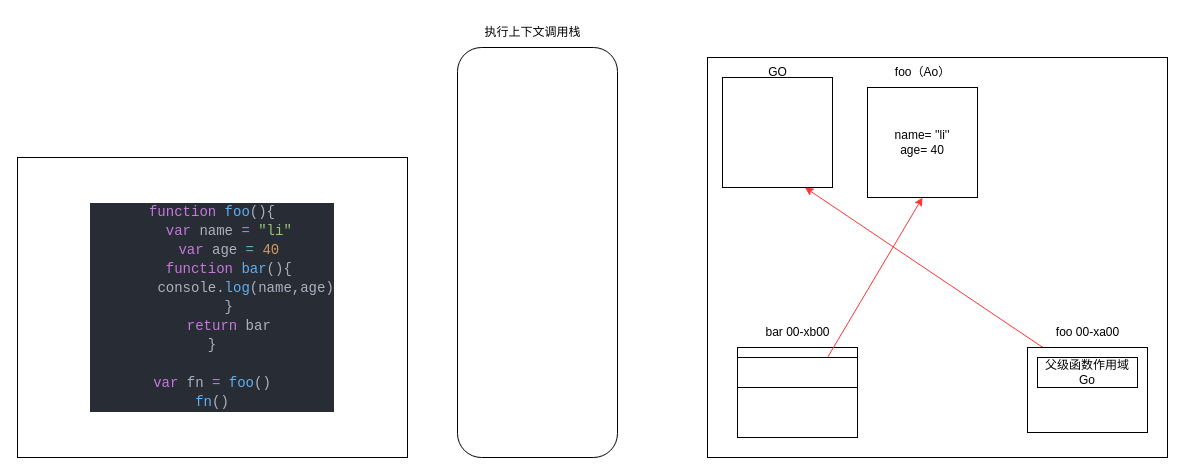
Image size: 1185x475. Some labels were removed from this diagram. The shapes that lost their labels are listed below. From the top down, each one's box as (x1, y1, x2, y2) in pixels, then its label:
(722, 76, 832, 188): setTimout string date window foo : 00-xa00 fn= 00-xb00
(736, 356, 858, 388): 自己作用域+父级作用域 foo(Ao)
